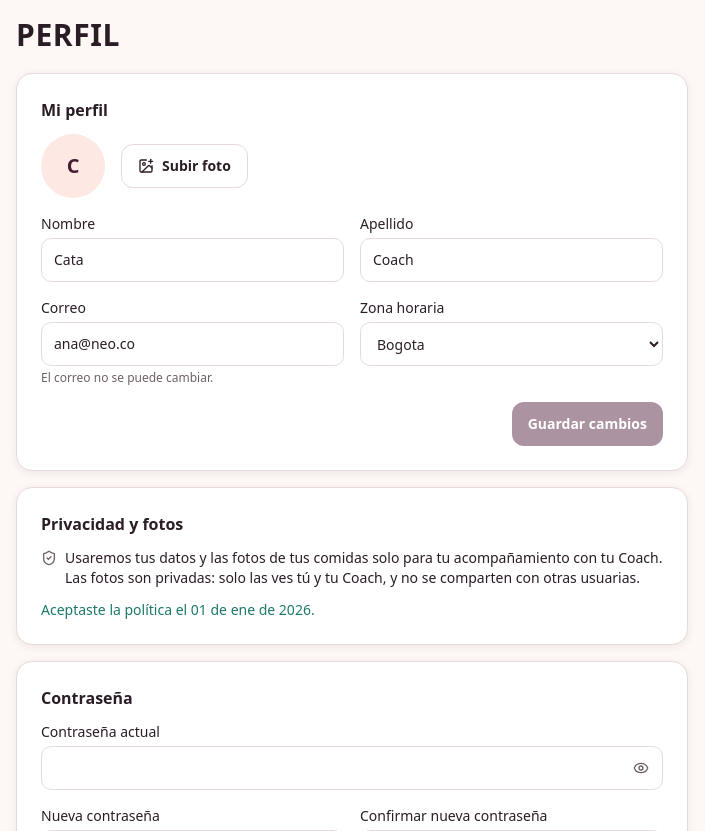
perfil, privacidad y contraseña (HU-24, HU-28) › edita el nombre y envía solo nombre, apellido y zona horaria
The width and height of the screenshot is (705, 831).
Replace the text in the field labelled "Nombre" with " Ana María ". click: [192, 260]
box: [41,238,344,282]
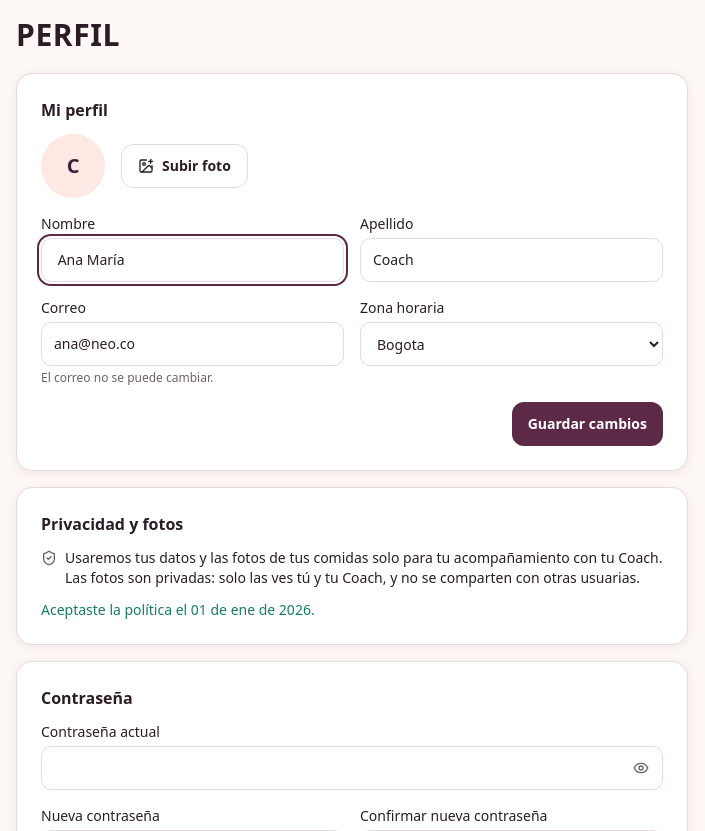
Click the button "Guardar cambios". click: [587, 424]
box: [512,402,663,446]
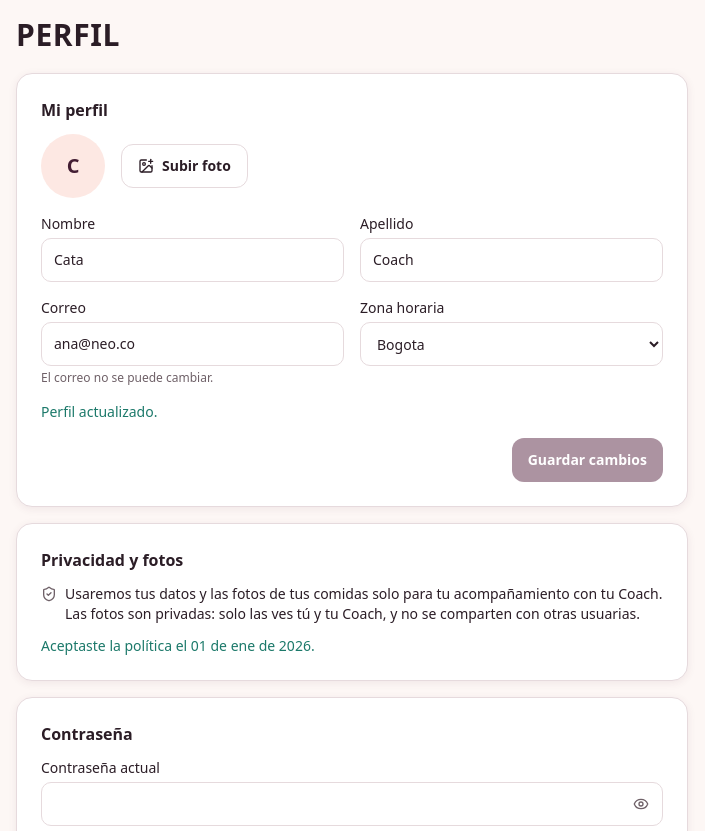
Expected: the text "Perfil actualizado." is shown, [41,402,158,421]
